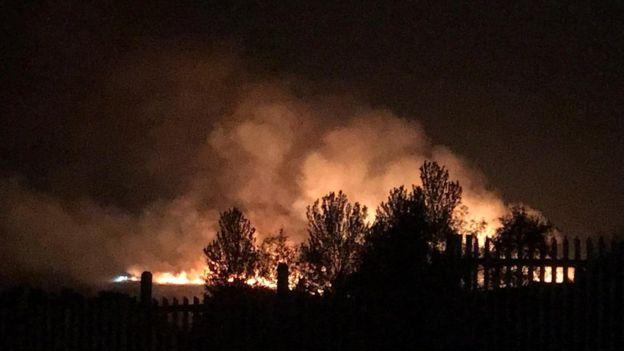smoke: (22, 210, 204, 266), (225, 113, 299, 215), (304, 135, 404, 189)
